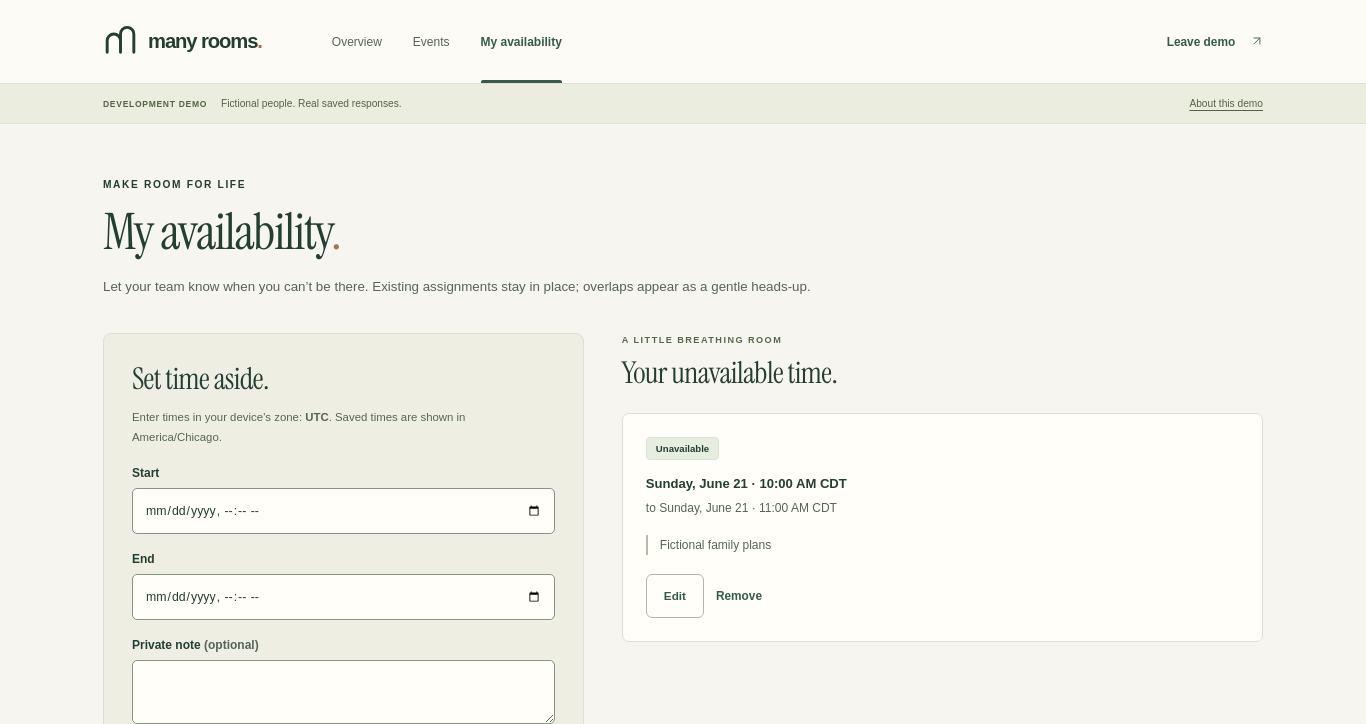
my unavailable time › rejects nonpositive ranges before making a request
Expected: the text "Fictional family plans" is shown, [646, 535, 1239, 555]
Type "2099-06-21T10:00" into the field labelled "Start".
click(343, 511); type("2099-06-21T10:00")  # box [132, 488, 555, 534]
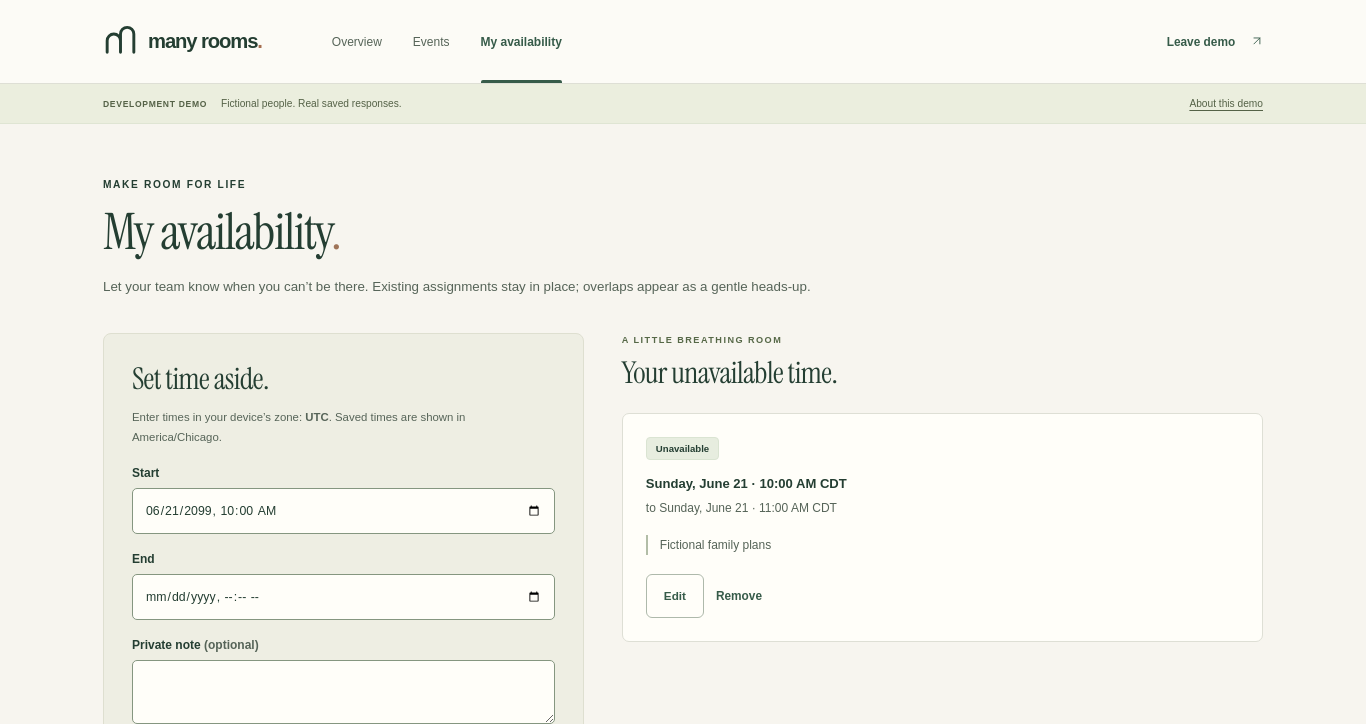
Type "2099-06-21T10:00" into the field labelled "End".
click(343, 597); type("2099-06-21T10:00")  # box [132, 574, 555, 620]
(page scrolled)
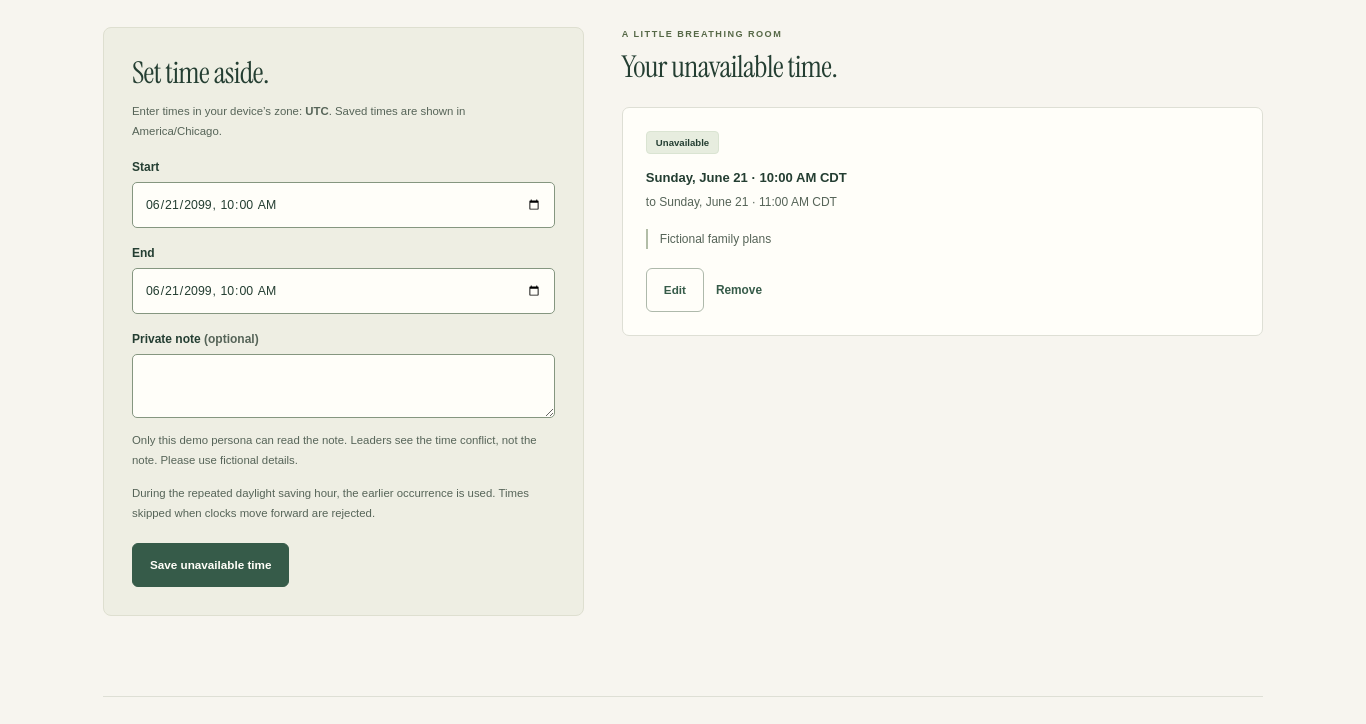
Click the button "Save unavailable time".
click(211, 565)  # box [132, 543, 290, 587]
(page scrolled)
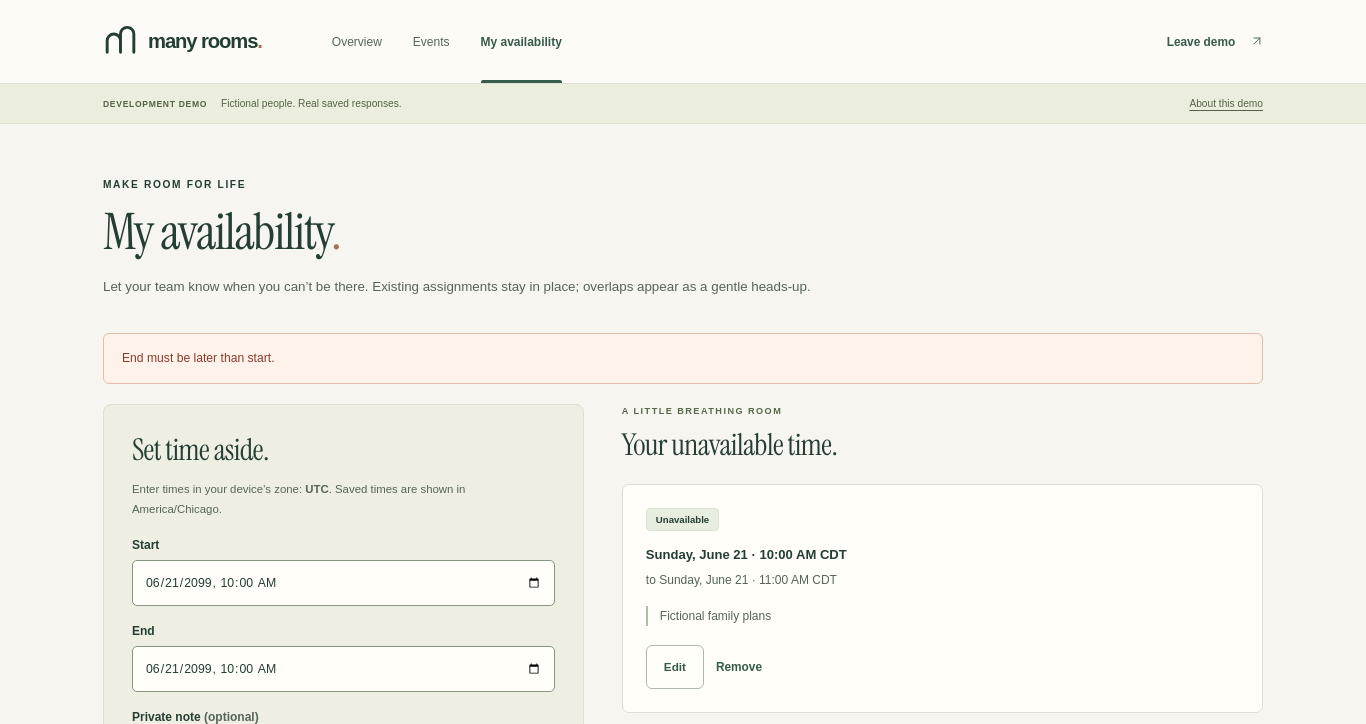
Expected: the message shows "End must be later than start", [122, 351, 274, 365]
